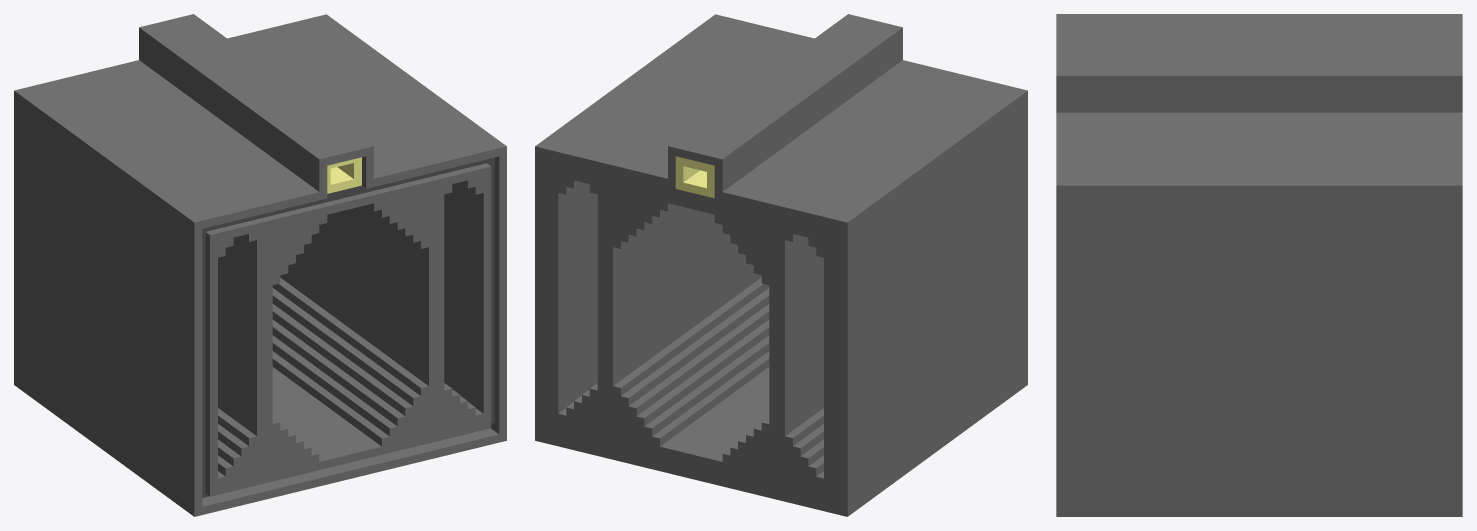
File: Jaula.obj
3 renders of one model, left to right at view 1: azimuth 30°, elevation 25°; view 2: azimuth 150°, elevation 25°; view 3: azimuth 270°, elevation 25°, orthographic. The views are drawn at different scales.
Size of the model in its own units: 4 by 4 by 4.
1 material, 1 textured.
